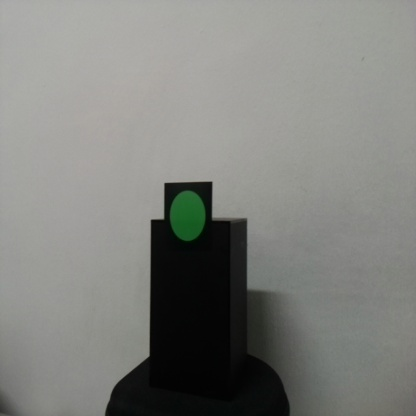id_5: (164, 183, 213, 253)
